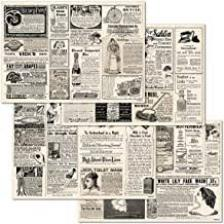paper: (68, 117, 224, 222), (58, 25, 212, 128), (4, 0, 145, 108), (8, 99, 154, 202)
